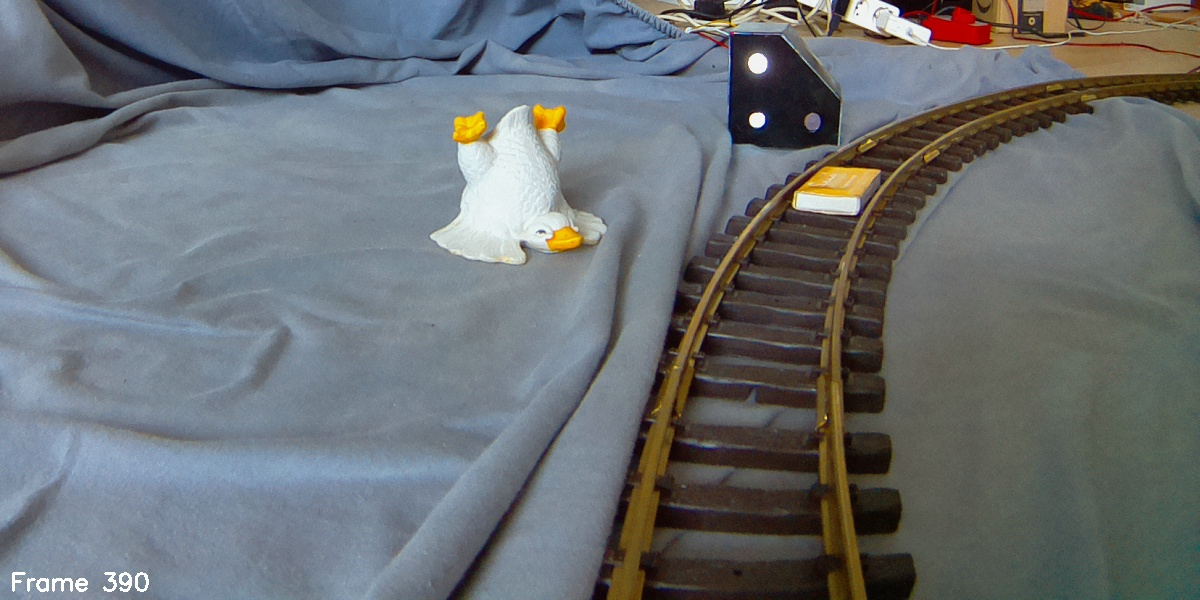Ente: (427, 103, 610, 273)
Fahrt: (731, 23, 843, 151)
